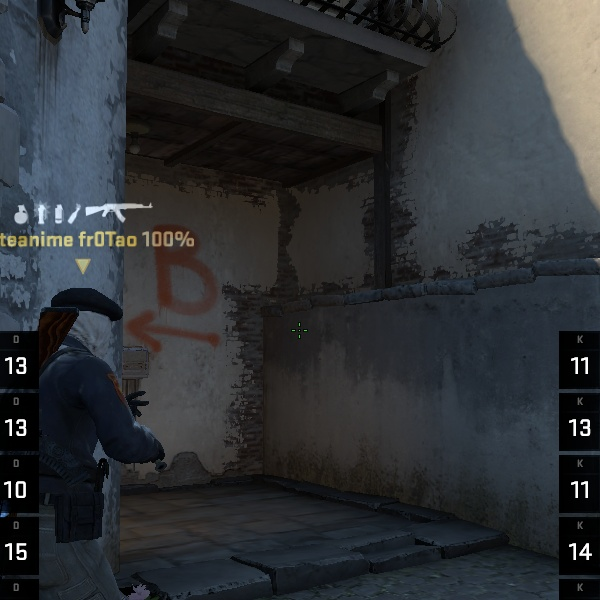ct_body: (0, 275, 180, 600)
